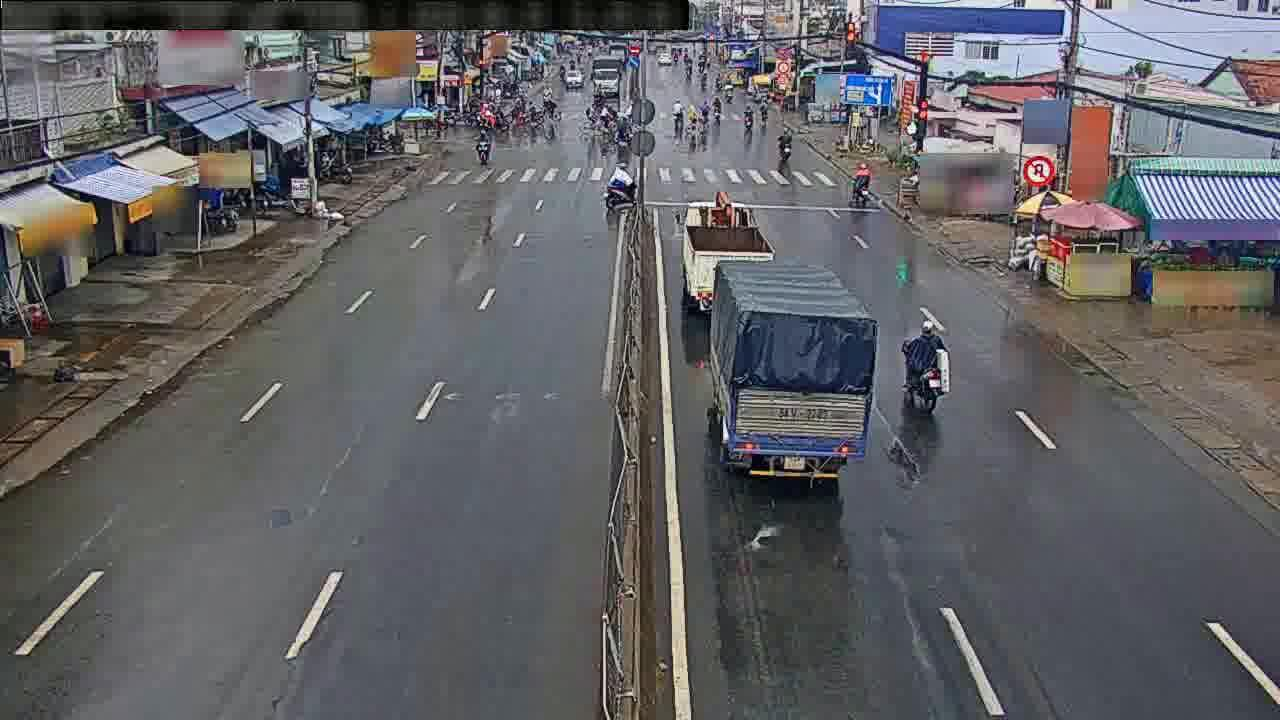8: (709, 251, 868, 492), (677, 189, 777, 308)
motorbike: (901, 321, 952, 420), (845, 157, 877, 208), (604, 156, 633, 211), (775, 126, 798, 164), (477, 126, 491, 163)
